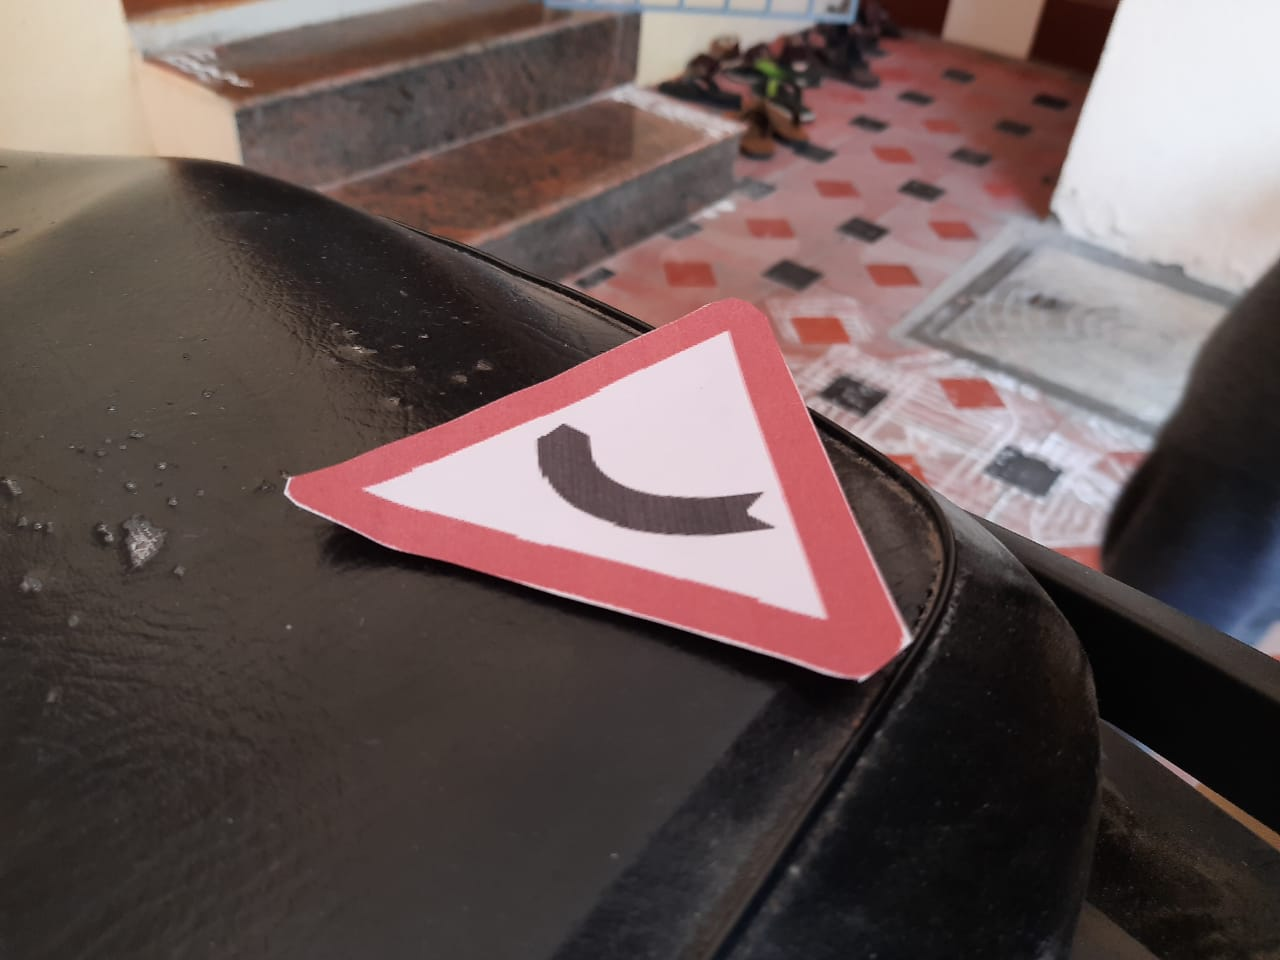RIGHT CURVE: (318, 262, 954, 695)
